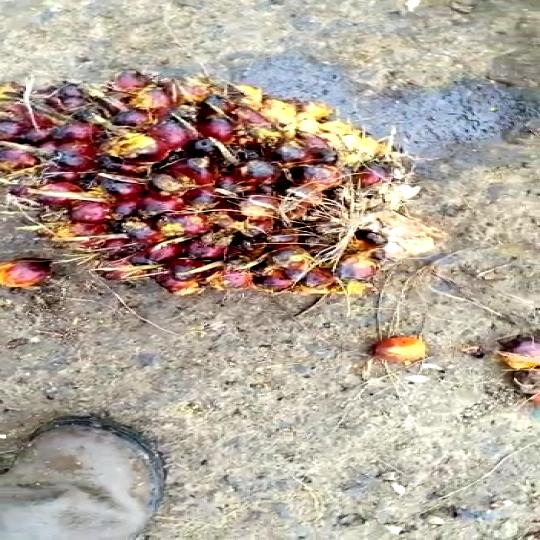kurang masak: (0, 59, 452, 328)
